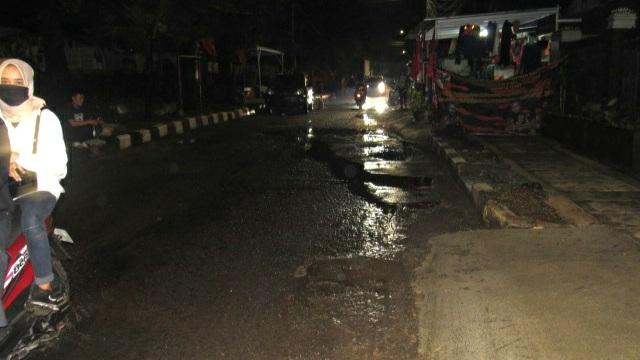Pothole: (269, 95, 438, 226)
